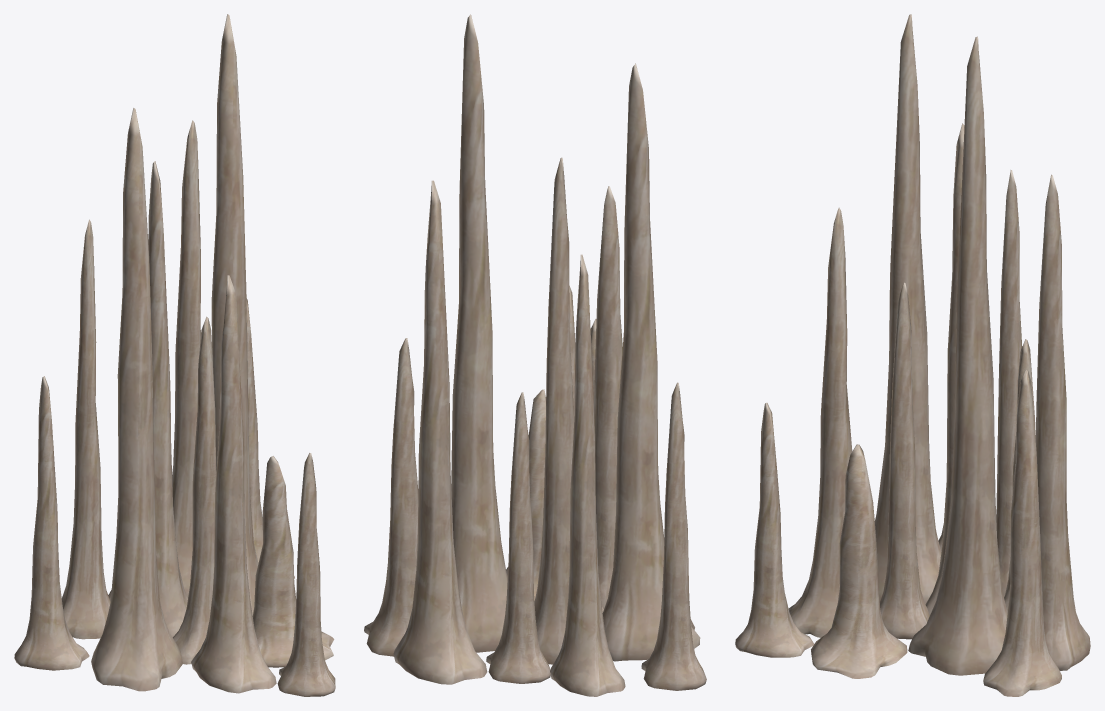
File: StoneGroup_02.fbx
3 renders of one model, left to right at view 1: azimuth 30°, elevation 25°; view 2: azimuth 150°, elevation 25°; view 3: azimuth 270°, elevation 25°, orthographic. The views are drawn at different scales.
Parts seen in each view (by area): view 1: StoneGroup_Thorn_LOD0; view 2: StoneGroup_Thorn_LOD0; view 3: StoneGroup_Thorn_LOD0.
Part boxes in pixels (<box>): StoneGroup_Thorn_LOD0: <box>14,14,335,696</box>; StoneGroup_Thorn_LOD0: <box>364,14,706,696</box>; StoneGroup_Thorn_LOD0: <box>735,14,1090,696</box>.
Size of what is drawn, in the model's own units: 1.19 by 2.25 by 1.17.
